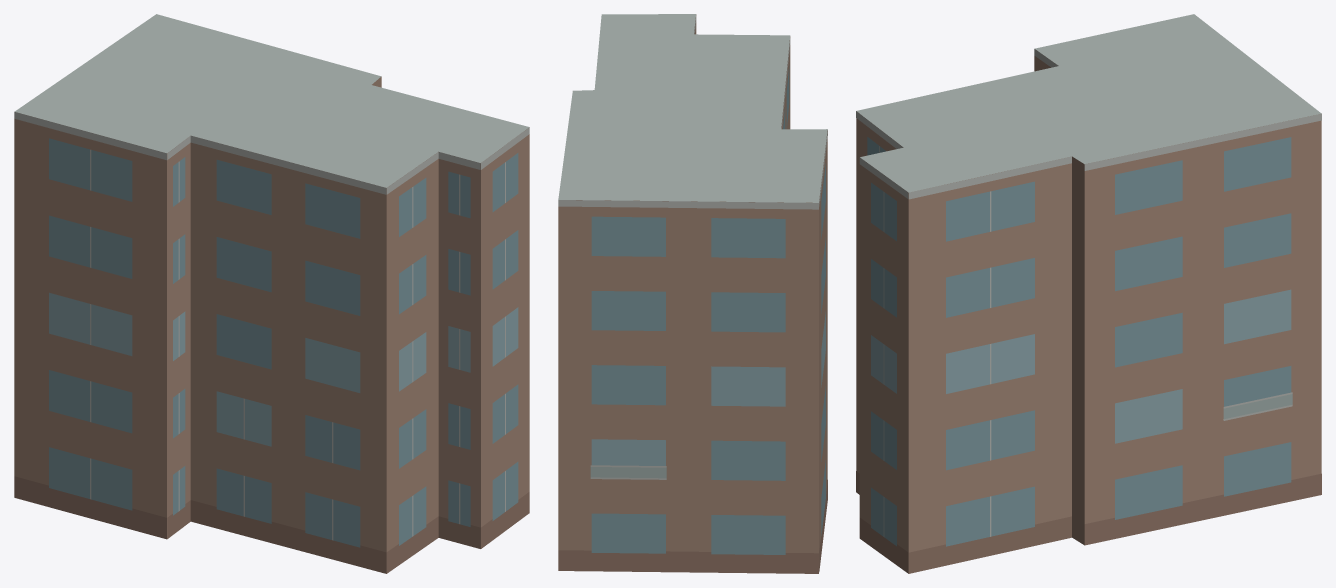
The model's file is survey-upis-32474949.glb.
3 renders of one model, left to right at view 1: azimuth 30°, elevation 25°; view 2: azimuth 150°, elevation 25°; view 3: azimuth 270°, elevation 25°, orthographic. The views are drawn at different scales.
Visible parts, largest first — view 1: survey-upis-32474949.tmp; view 2: survey-upis-32474949.tmp; view 3: survey-upis-32474949.tmp.
Part boxes in pixels (x1,y1,x2,y2): survey-upis-32474949.tmp: [14, 14, 529, 573]; survey-upis-32474949.tmp: [558, 14, 827, 573]; survey-upis-32474949.tmp: [856, 14, 1321, 573].
Bounding box in the file's own units: 13.58 × 13.5 × 14.95.
